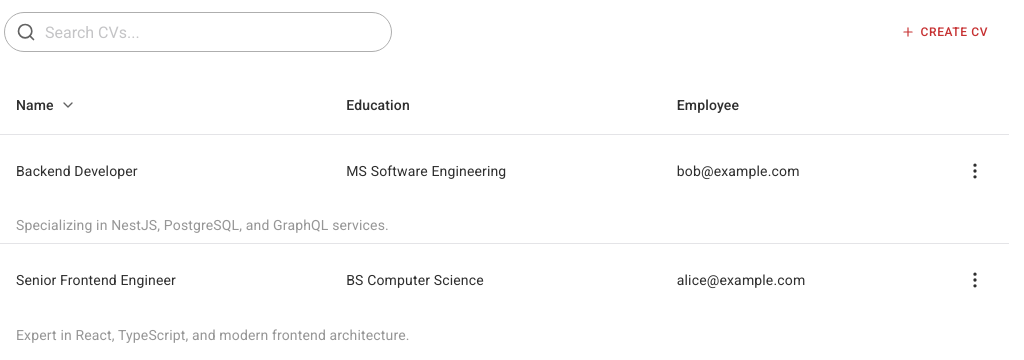
Scenario: CVTable Component › filters CVs when searching
Type "Backend" into the field with placeholder "Search CVs..." at (198, 32), box [4,12,392,52]
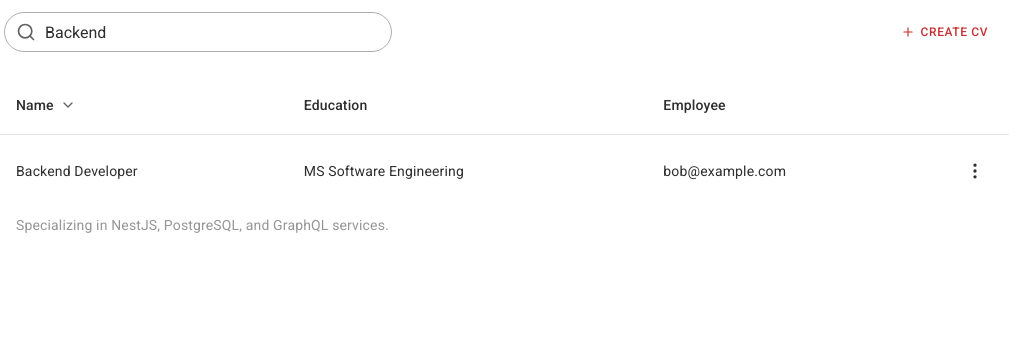
Check: the text "Backend Developer" is shown, box [0,134,288,207]
Check: the text "Senior Frontend Engineer" is gone
